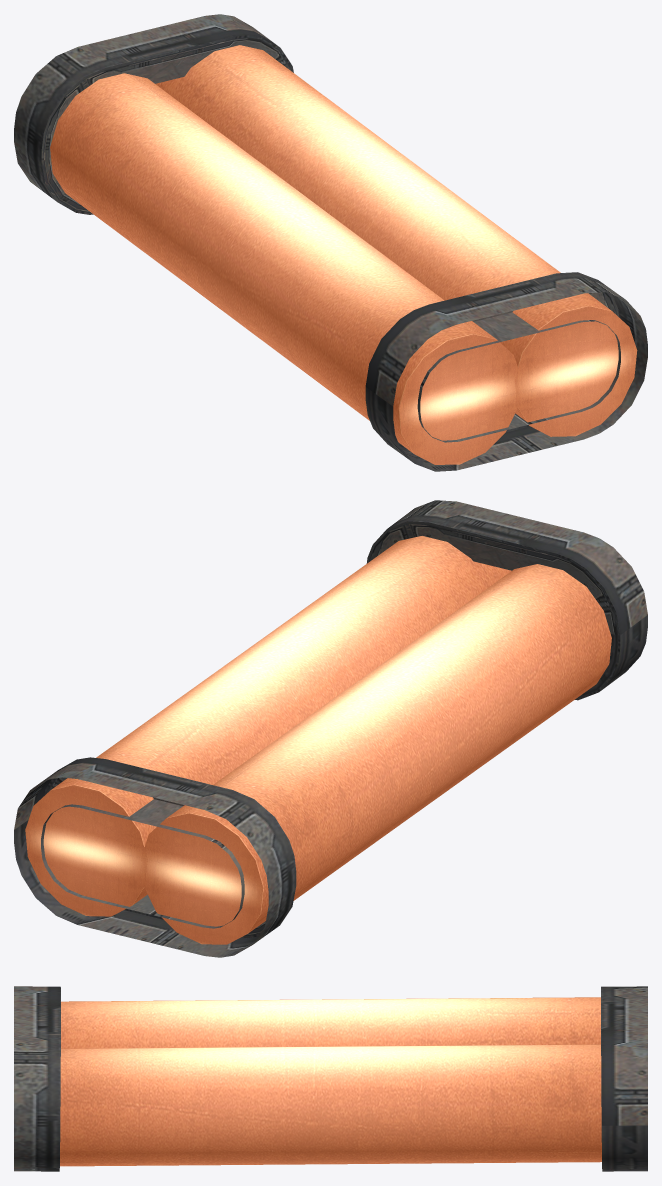
File: heat-pipe.glb
3 renders of one model, top to bottom at view 1: azimuth 30°, elevation 25°; view 2: azimuth 150°, elevation 25°; view 3: azimuth 270°, elevation 25°, orthographic. The views are drawn at different scales.
Parts seen in each view (by area): view 1: heat-pipe; view 2: heat-pipe; view 3: heat-pipe.
Boxes of the visible parts, left/top/right/bottom form: heat-pipe: left=14, top=14, right=647, bottom=471; heat-pipe: left=14, top=500, right=647, bottom=957; heat-pipe: left=14, top=986, right=647, bottom=1171.
Bounding box in the file's own units: 0.3878 × 0.2129 × 1.
Materials: 2 (2 with a texture image).
